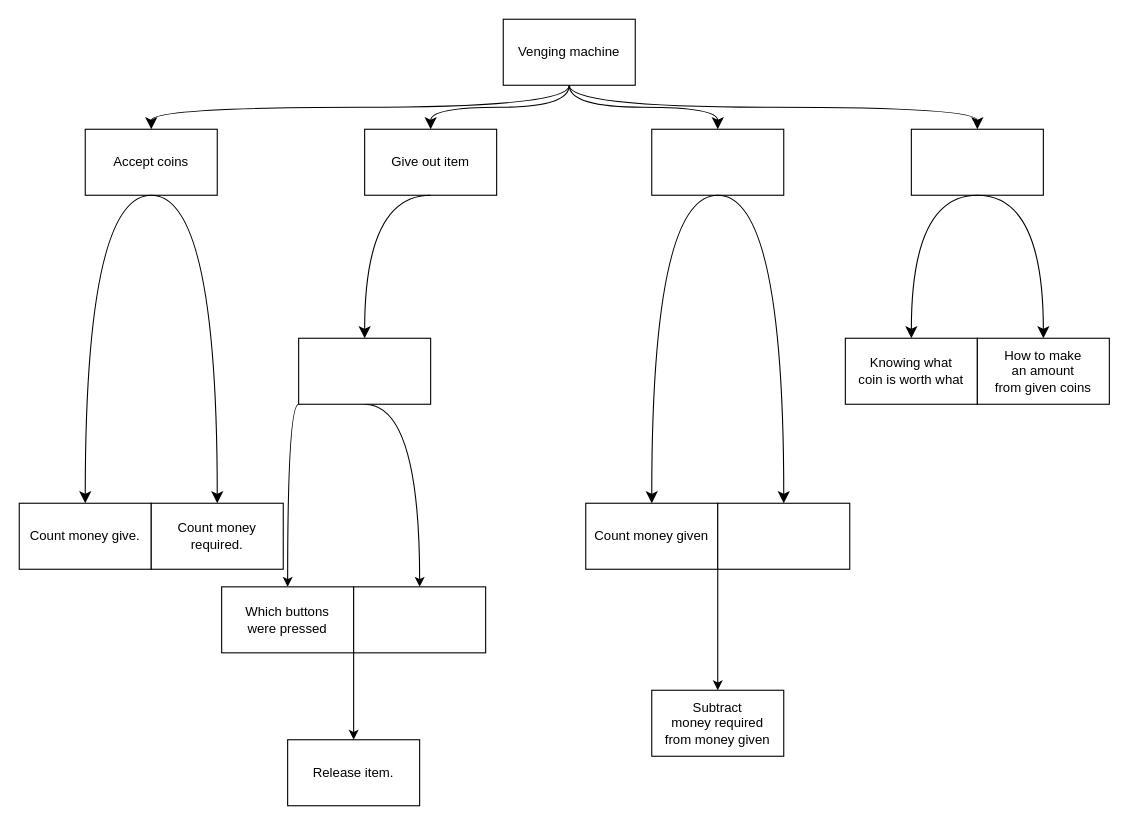
The diagram is 1129 pixels wide and 825 high, and some of its shapes have lost their labels. The centre of each missing label's shape, as x and y in pixels:
Count money required: the point at 783,535
Give out change: the point at 717,161
Money "reader": the point at 976,161
What does each button translate to: the point at 419,619
Which item selected?: the point at 364,370
